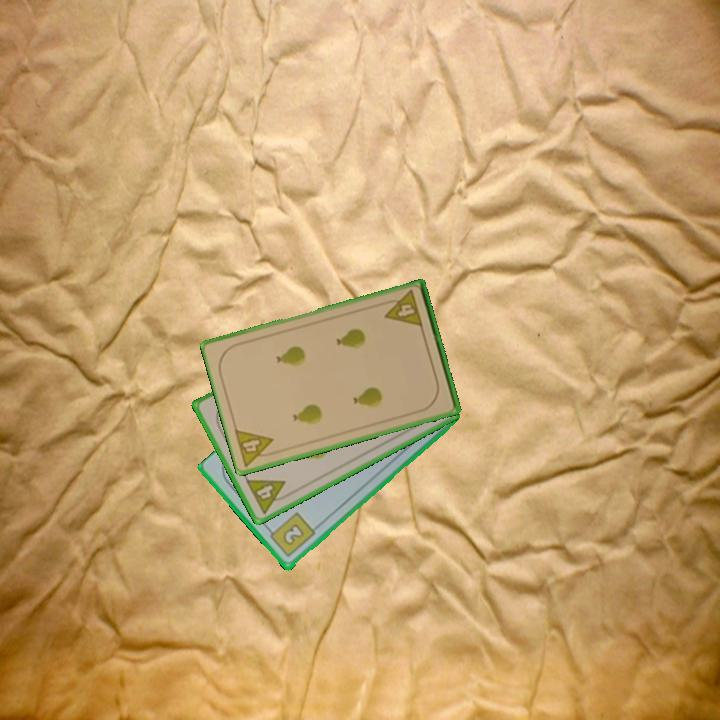2b: (264, 509, 318, 560)
4p: (231, 426, 281, 469), (242, 476, 294, 517), (379, 287, 425, 330)
